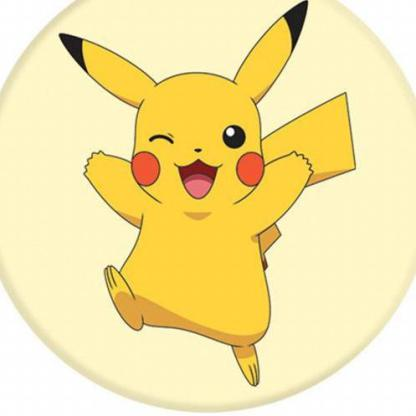Pikachu: (52, 8, 368, 389)
